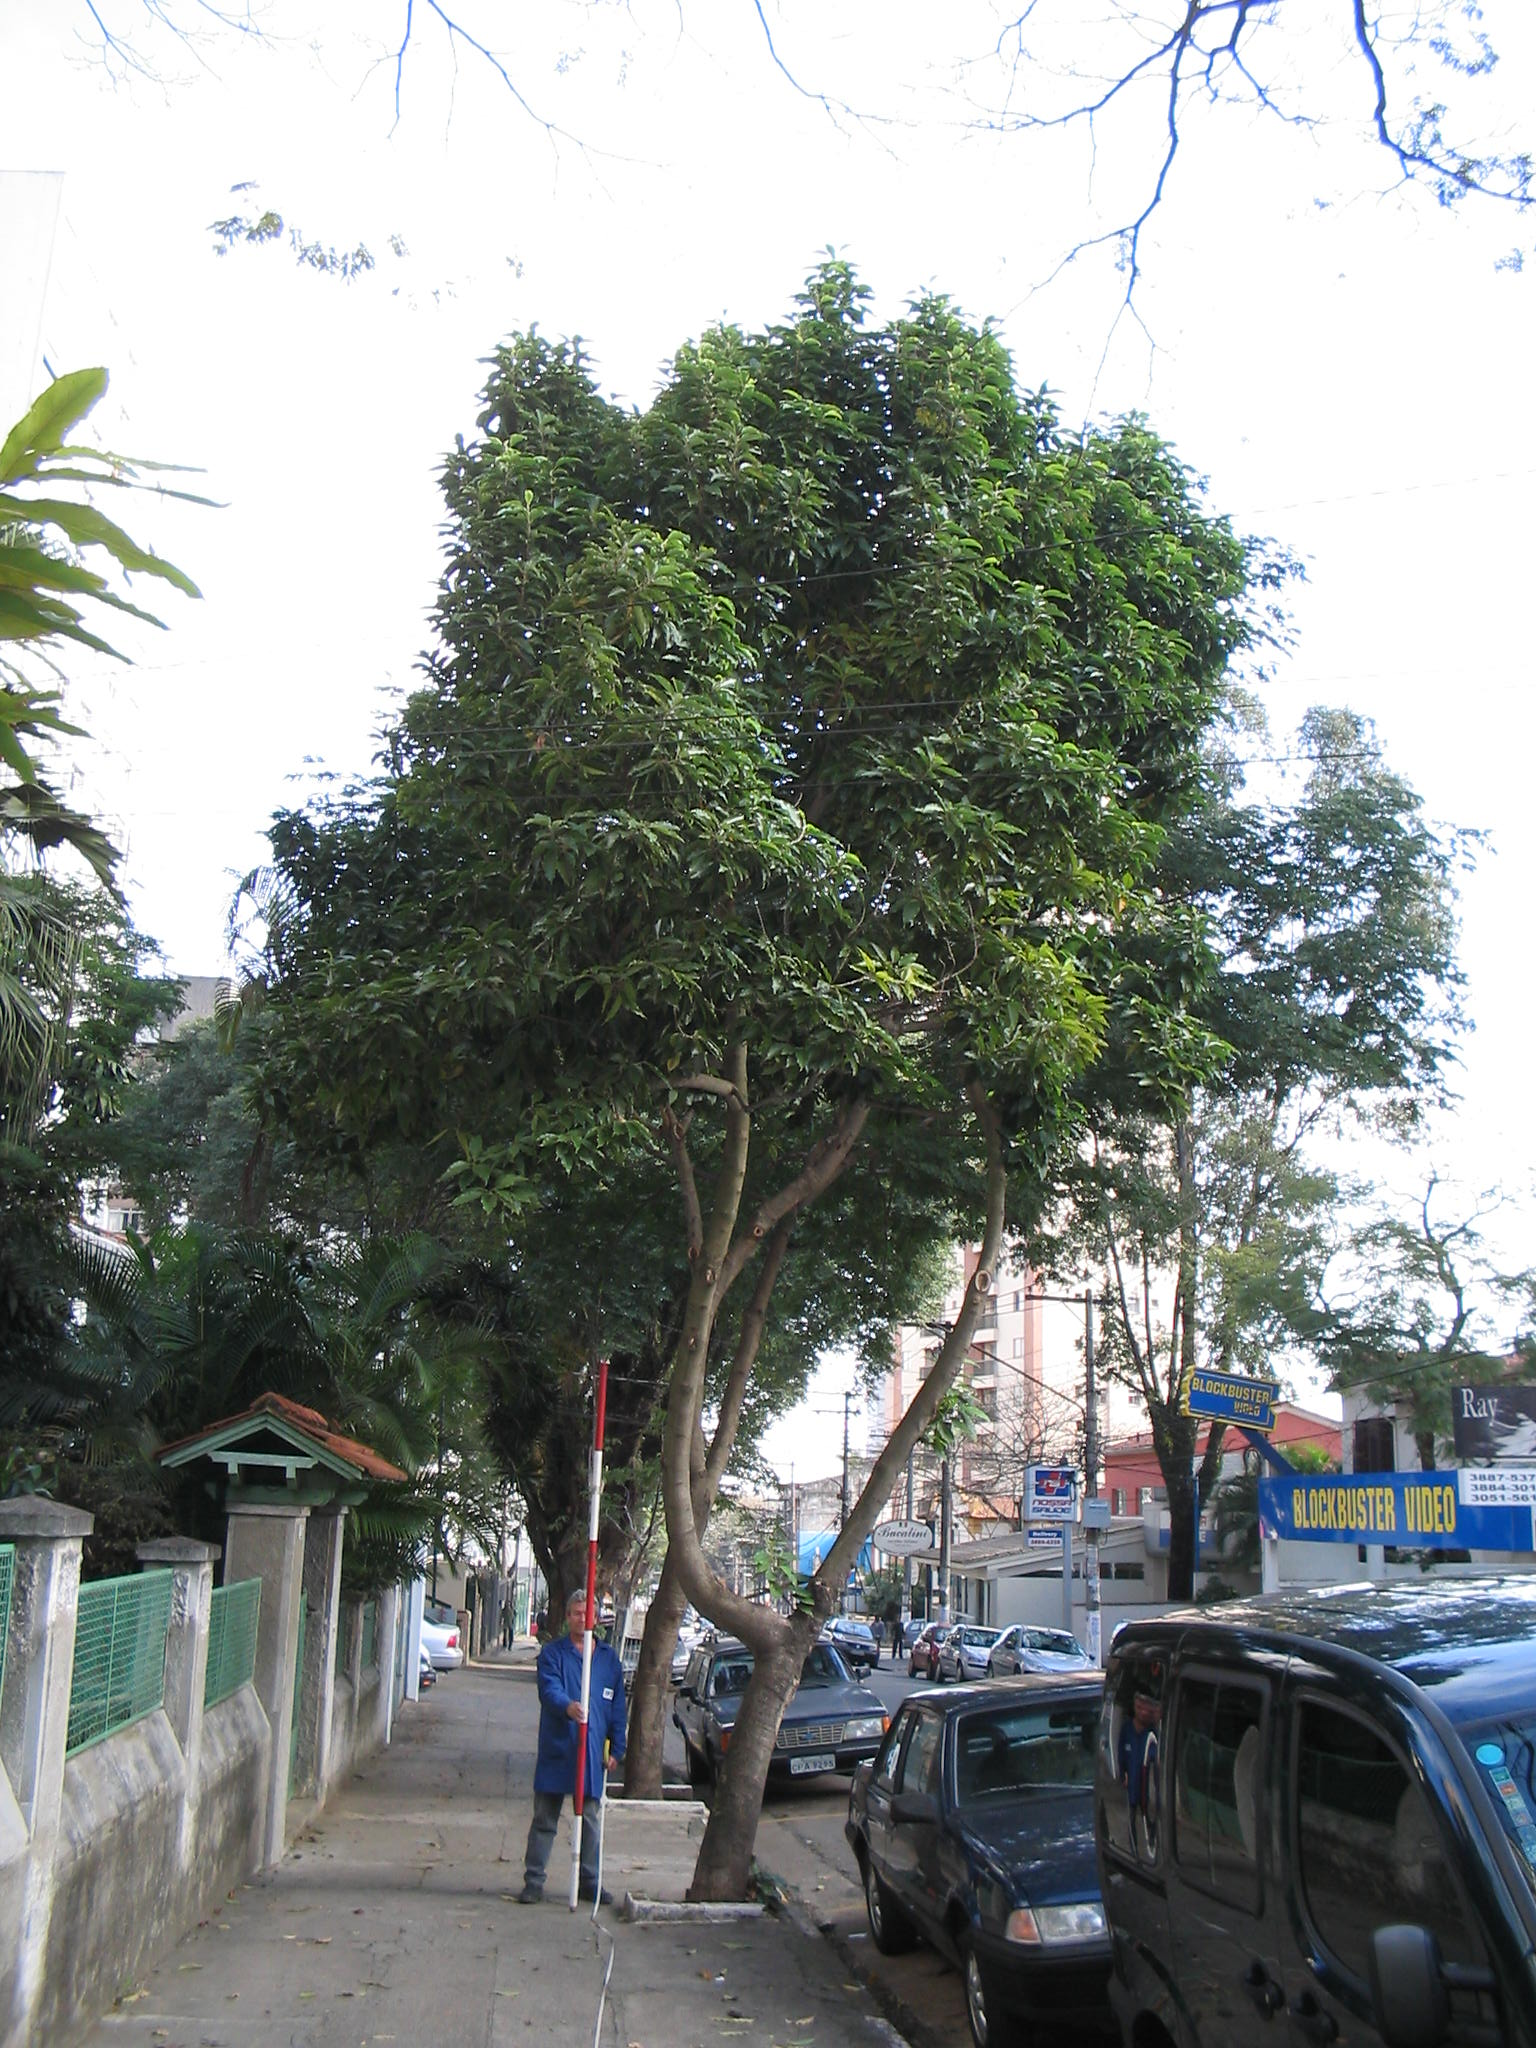crown: (252, 250, 1321, 1279)
stem: (682, 1655, 829, 1900)
stick: (553, 1361, 629, 1908)
tree: (240, 245, 1329, 1908)
